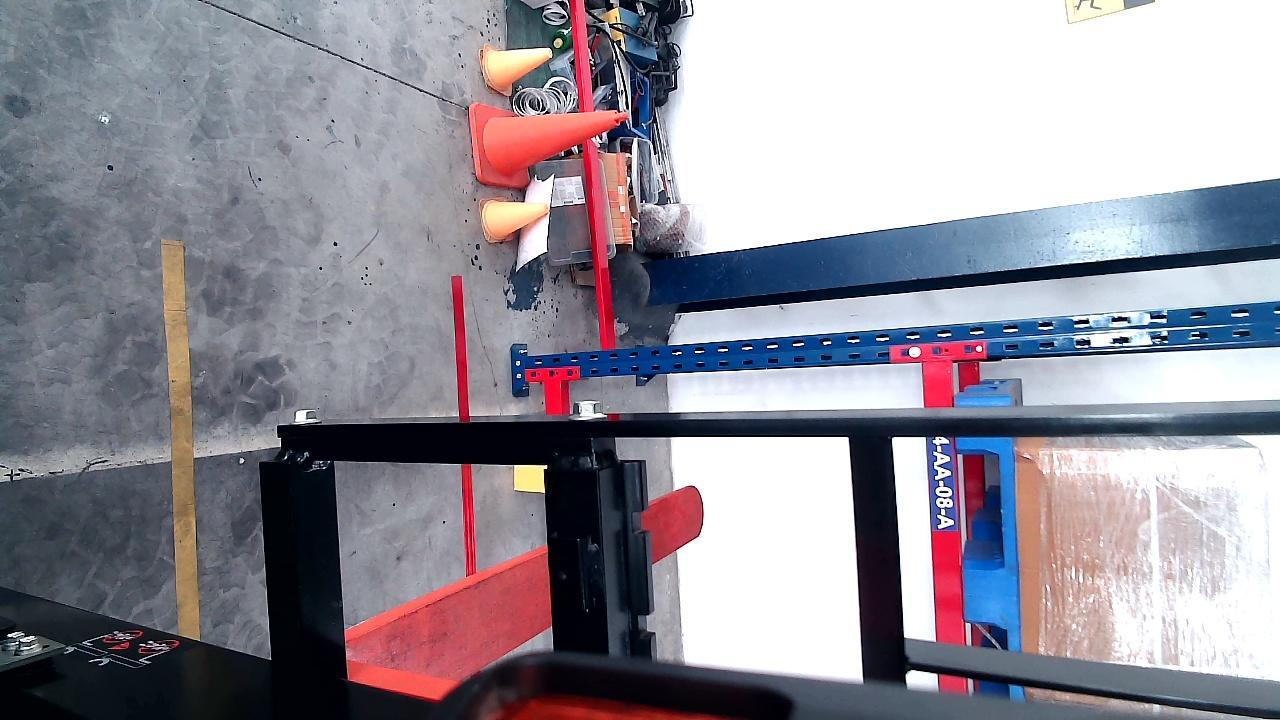red_line: (450, 275, 477, 574)
yellow_line: (168, 235, 199, 641)
